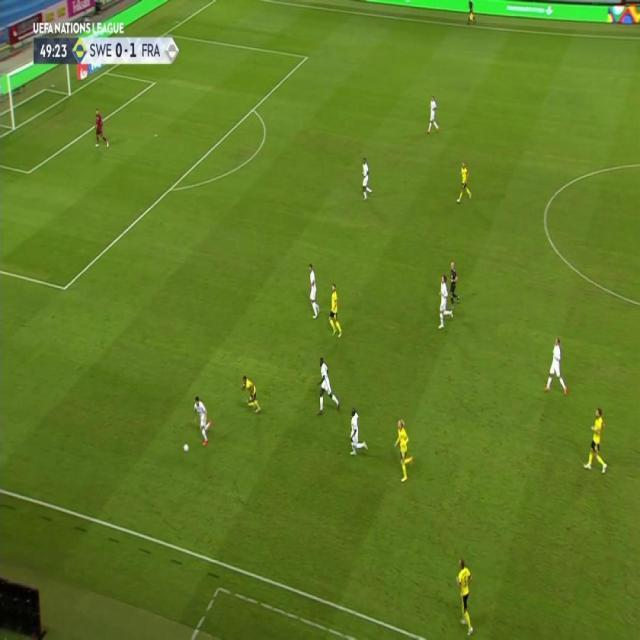ball: (182, 440, 189, 454)
goalkeeper: (93, 108, 110, 150)
player: (584, 407, 610, 476), (454, 556, 476, 634), (544, 335, 569, 397), (316, 356, 341, 418), (393, 418, 415, 483), (347, 407, 369, 459), (192, 395, 212, 447), (437, 275, 455, 330), (306, 263, 322, 320), (240, 373, 261, 415), (327, 281, 342, 339), (456, 161, 472, 203), (359, 157, 373, 203), (426, 94, 440, 135)
referee: (448, 260, 461, 308), (466, 0, 477, 25)
